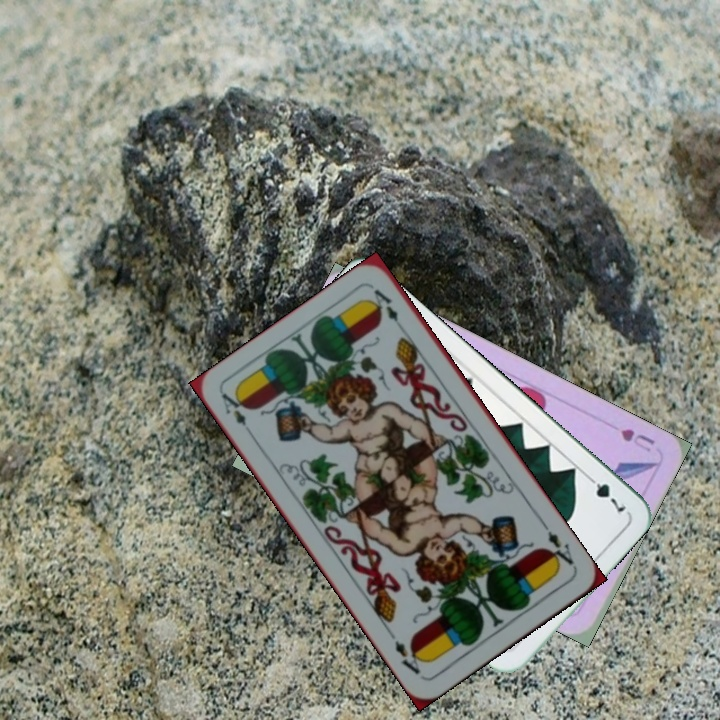EA: (538, 519, 579, 571), (217, 389, 250, 428)
G7: (582, 470, 629, 515)
HU: (616, 424, 658, 455)
